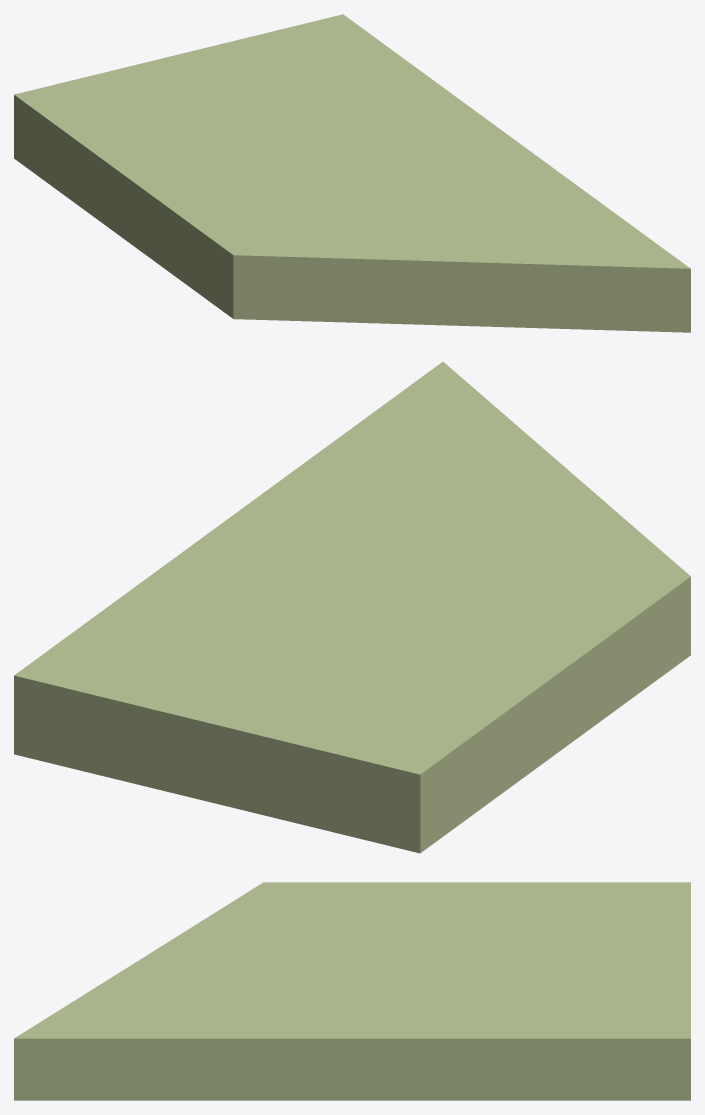
Rendered from ground_1.gltf.
3 views of the same model, one above another, from view 1: azimuth 30°, elevation 25°; view 2: azimuth 150°, elevation 25°; view 3: azimuth 270°, elevation 25° (orthographic). The views are drawn at different scales.
Parts seen in each view (by area): view 1: field; view 2: field; view 3: field.
Boxes of the visible parts, x1,y1,x2,y2 form: field: (14, 14, 690, 332); field: (14, 362, 690, 853); field: (14, 882, 690, 1100).
Bounding box in the file's own units: 6.96 × 1.29 × 12.74.
